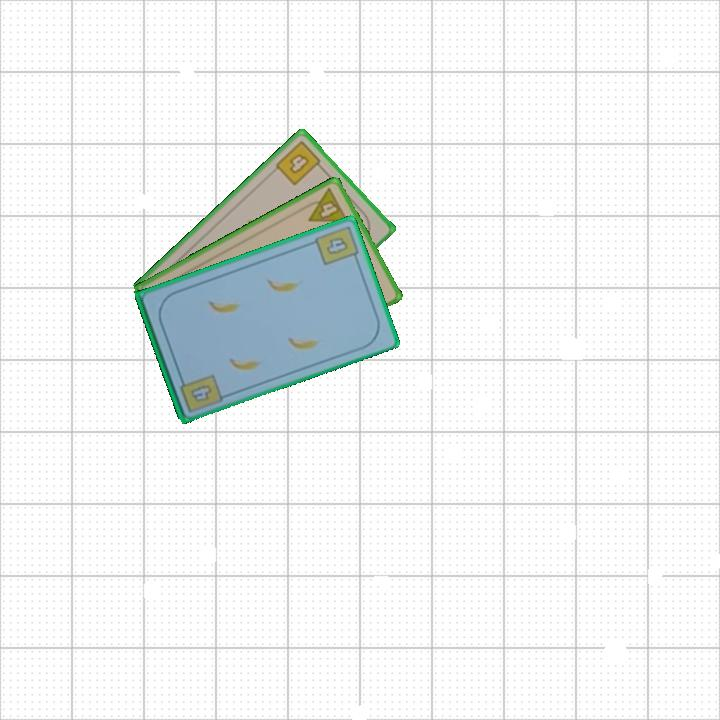4b: (272, 137, 327, 188), (311, 222, 362, 268), (187, 381, 215, 405)
4p: (299, 184, 351, 225)
